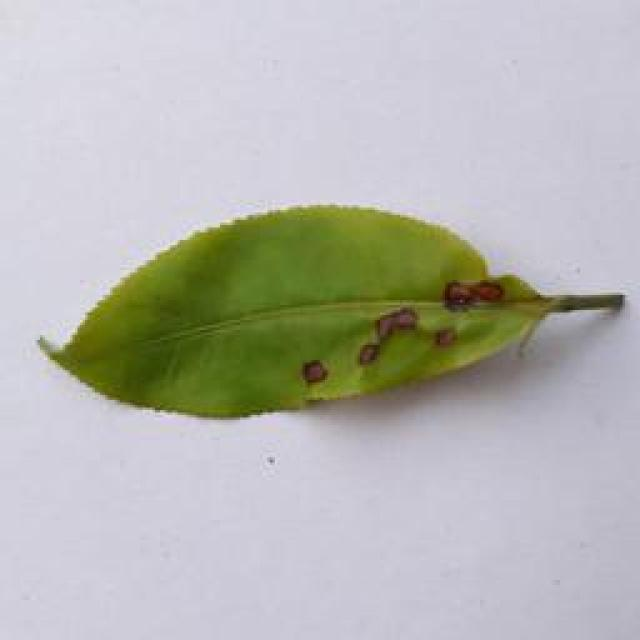Helopeltis: (39, 200, 640, 426)
